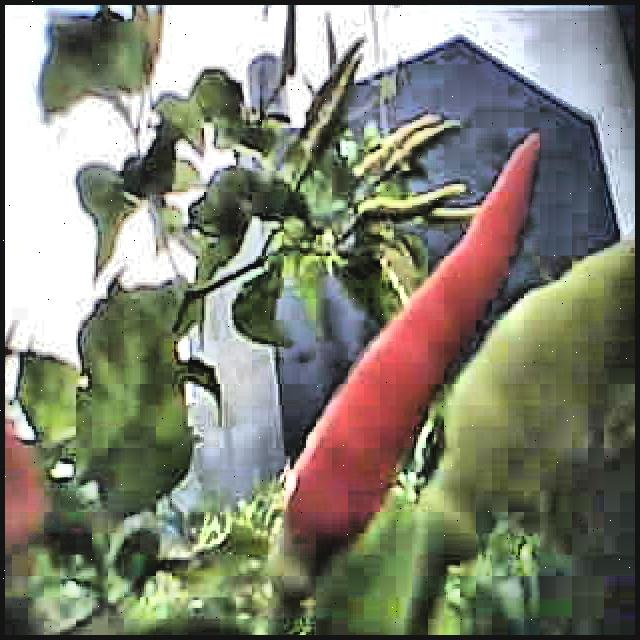Cabai: (269, 333, 438, 522), (367, 180, 469, 223)
